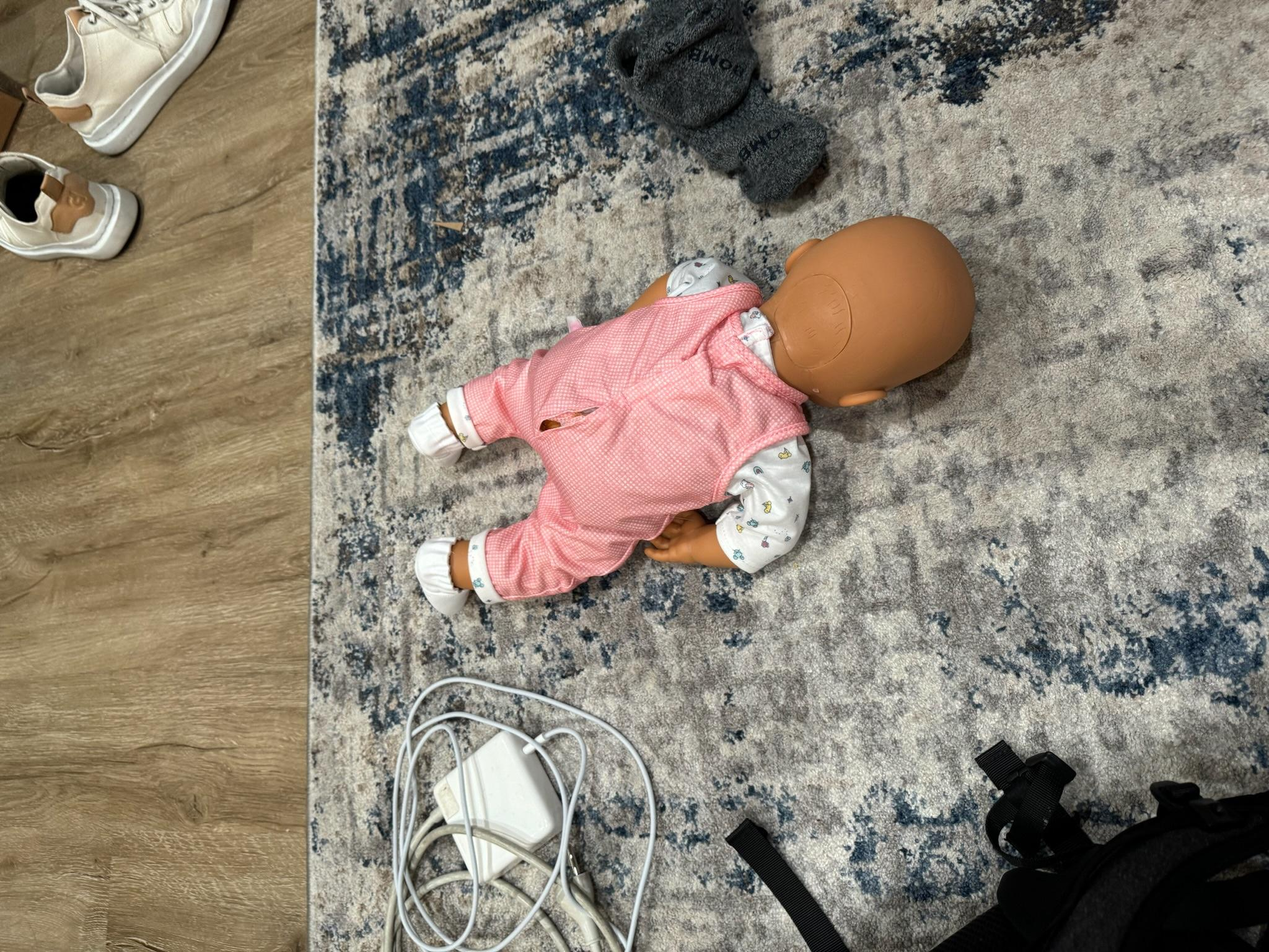baby: (376, 208, 987, 623)
